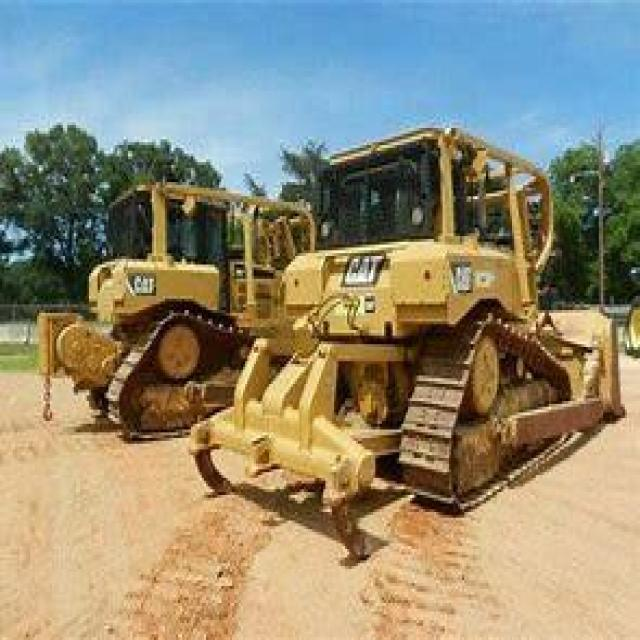Bulldozer: (184, 117, 638, 509)
